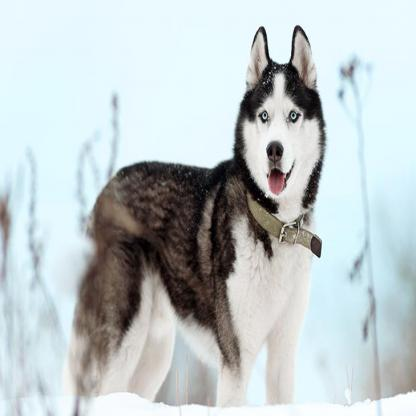dog: (65, 21, 329, 407)
